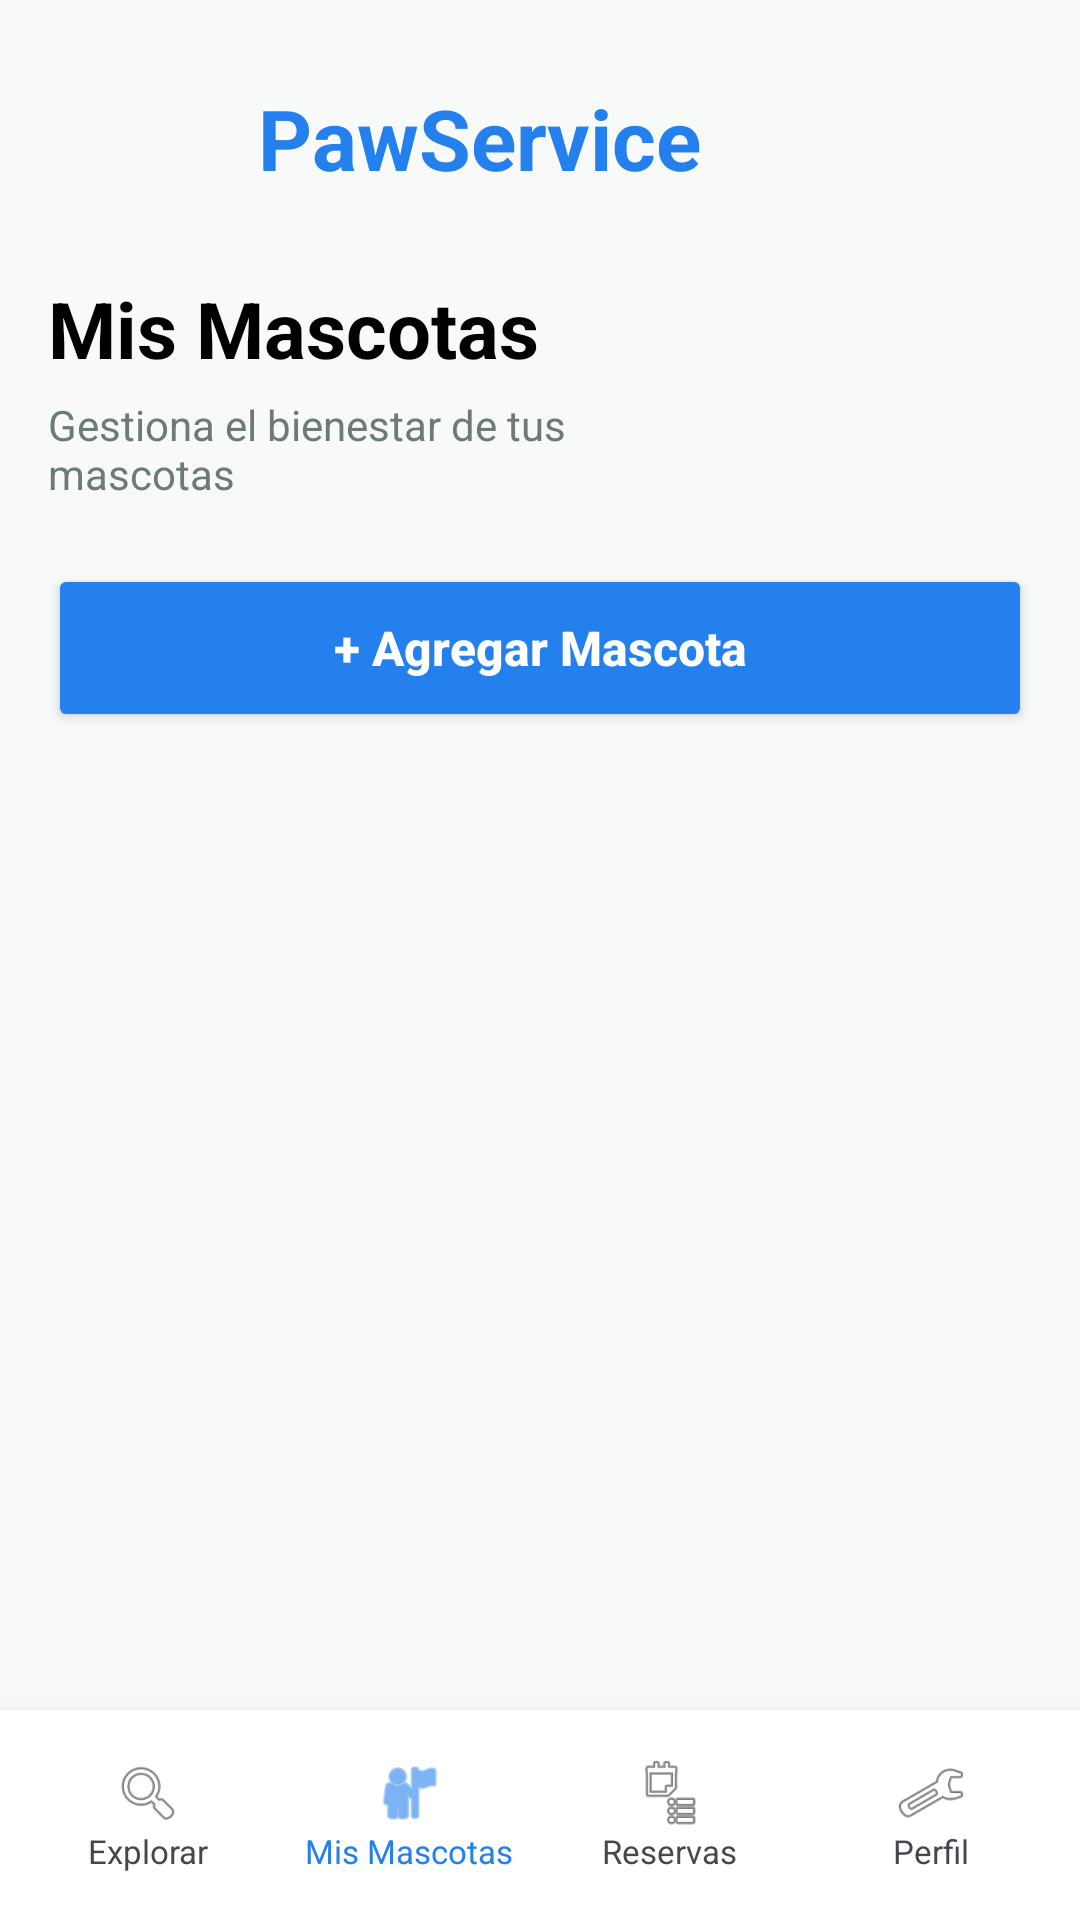

Where to tap for icons on this 1080×1920 app screen, as [x,y]:
agenda: [670,1793]
manage: [930,1793]
myplaces: [410,1793]
search: [148,1793]
